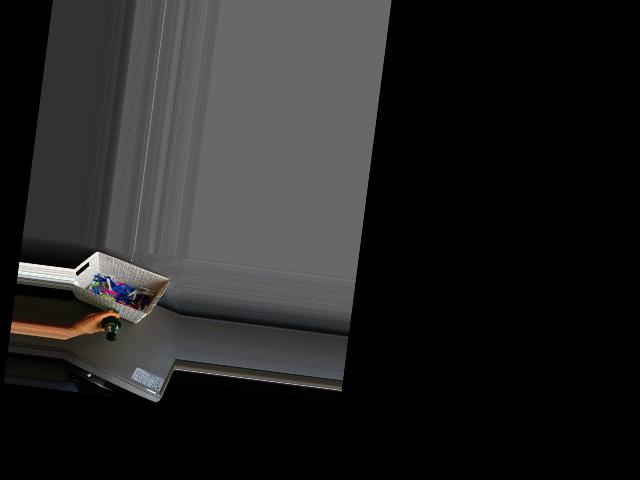beer: (99, 308, 122, 342)
